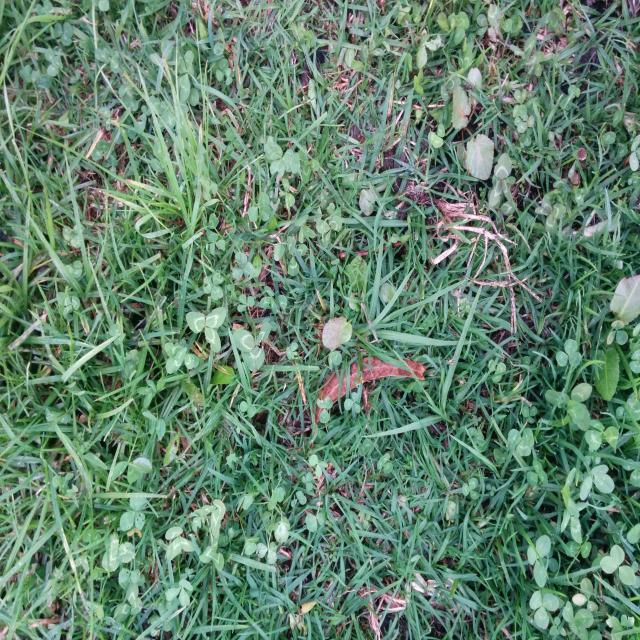Four Leaf Clover: (165, 342, 199, 374)
